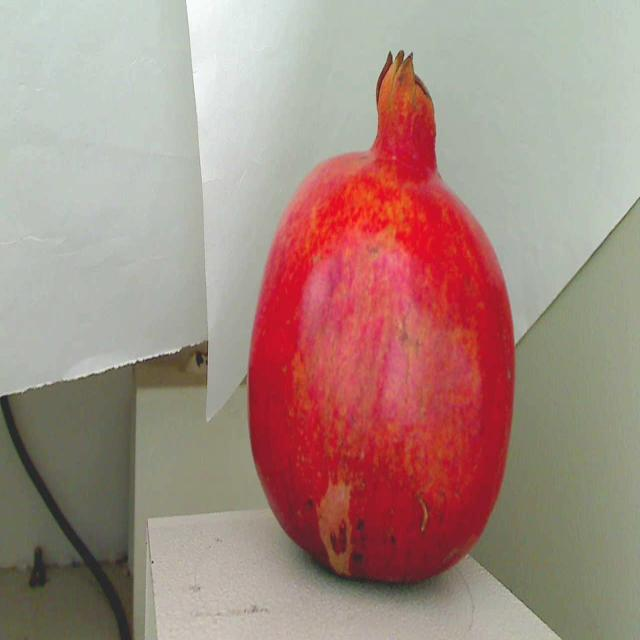pomegranate: (240, 42, 523, 594)
